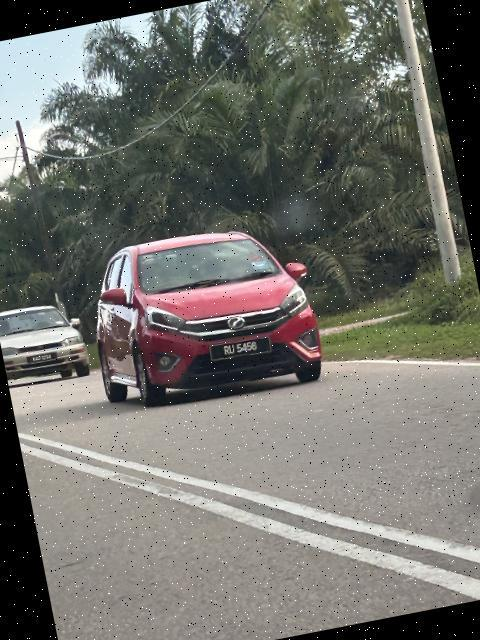License_Plate: (209, 333, 275, 366), (26, 350, 60, 367)
RU5456: (209, 333, 275, 366)
car: (62, 206, 333, 429), (1, 290, 92, 391)
